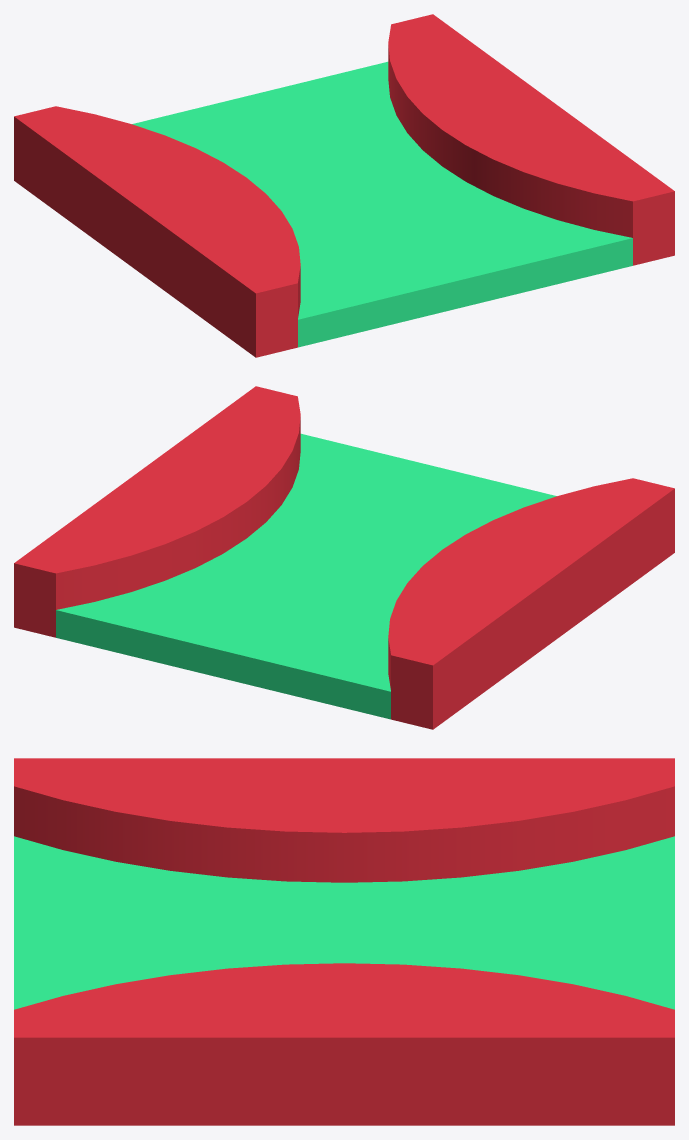
Rendered from narrowRound.fbx.
The picture shows the model from 3 angles, top to bottom: view 1: azimuth 30°, elevation 25°; view 2: azimuth 150°, elevation 25°; view 3: azimuth 270°, elevation 25°; orthographic projection. The views are drawn at different scales.
Parts seen in each view (by area): view 1: narrowRound; view 2: narrowRound; view 3: narrowRound.
Part boxes in pixels (x1,y1,x2,y2): narrowRound: (14,14,674,357); narrowRound: (14,386,674,729); narrowRound: (14,758,674,1125).
Size of the model in its own units: 10 by 1.47 by 10.
